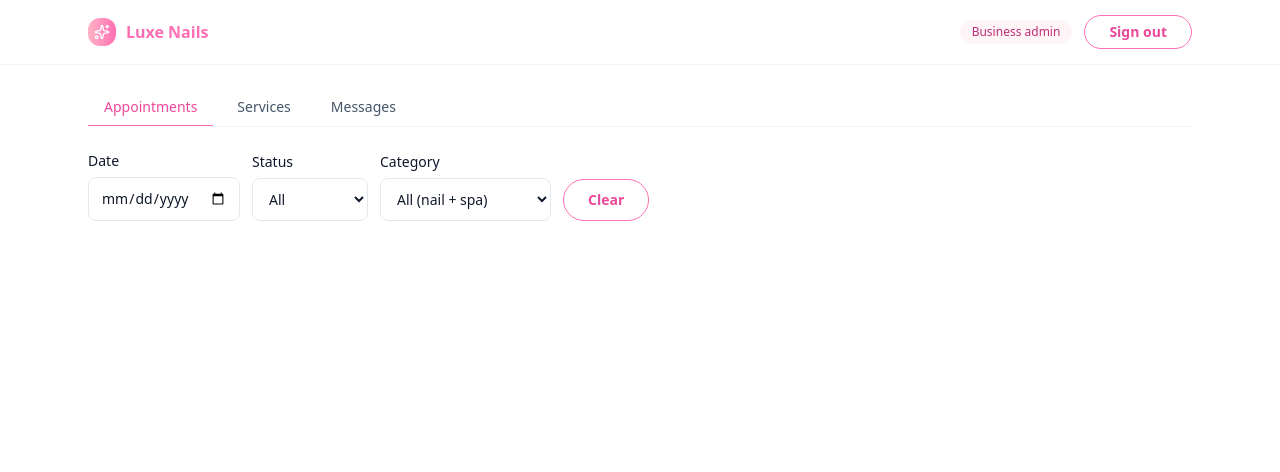
Test: business admin › tampering with browser storage or globals does not unlock service management
Step 1. Click the tab "Services" → (264, 108), box left=221, top=89, right=307, bottom=127
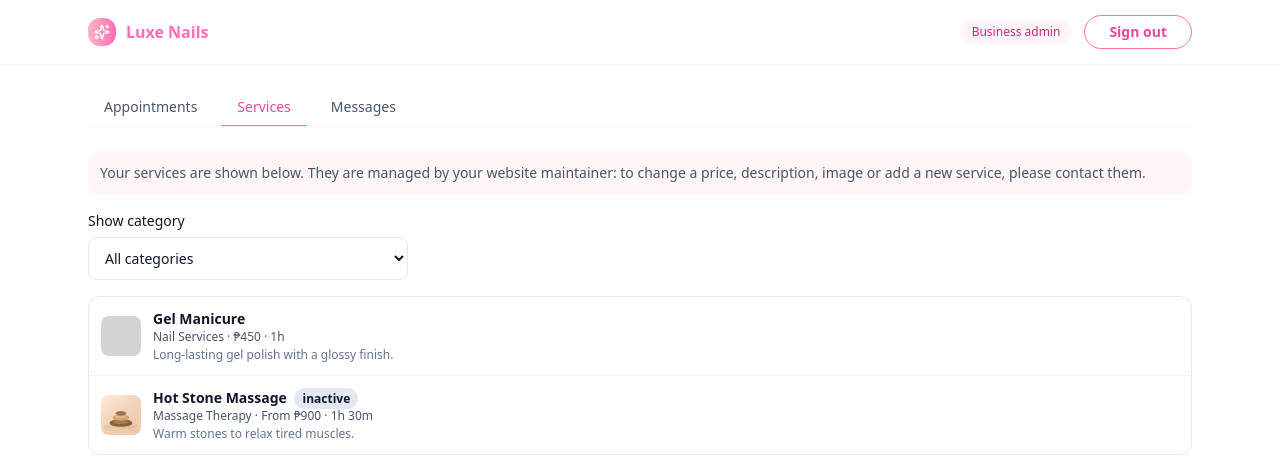
Expected: the text with test id "role-badge" reads "Business admin", left=972, top=23, right=1060, bottom=40
Now the text "Gel Manicure" is shown, box left=153, top=309, right=245, bottom=328
